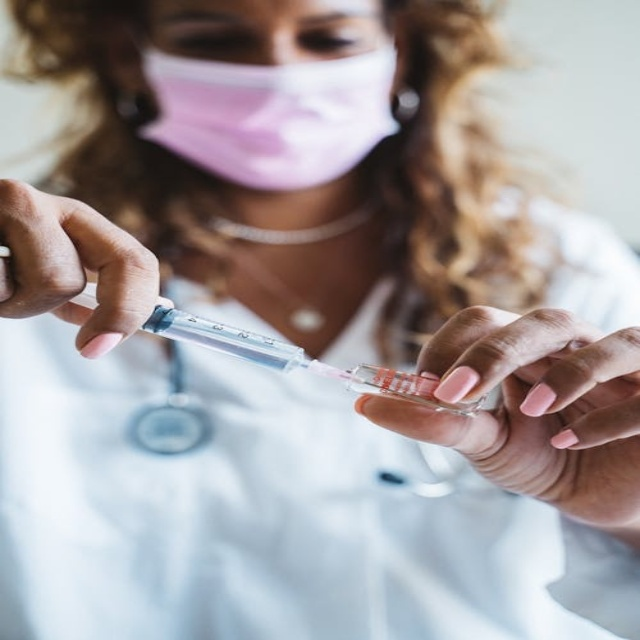Mascara: (132, 22, 404, 192)
Sin_guantes: (354, 296, 640, 529), (1, 174, 169, 356)
